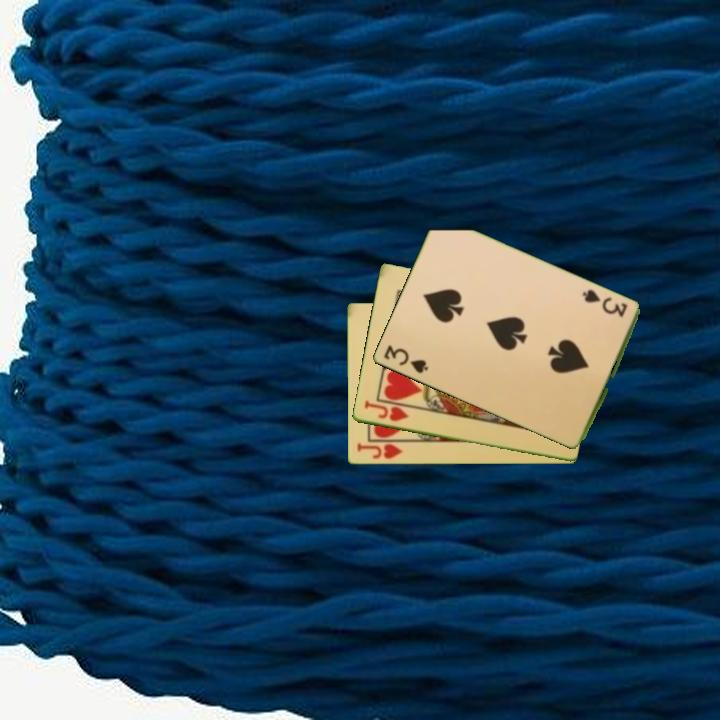3s: (380, 342, 431, 377), (580, 286, 630, 320)
Jh: (360, 397, 411, 425), (353, 440, 405, 462)
